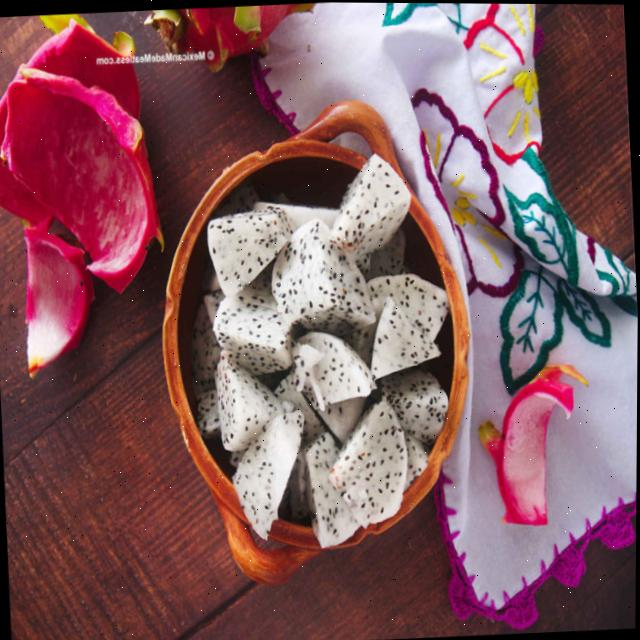Wet: (0, 55, 166, 299), (473, 358, 596, 527), (267, 213, 379, 328), (20, 221, 100, 380), (325, 394, 413, 530), (229, 407, 313, 541), (327, 151, 415, 255), (205, 205, 298, 297), (210, 283, 294, 379), (215, 347, 287, 451), (289, 328, 380, 410), (366, 291, 443, 380), (381, 365, 452, 444)
